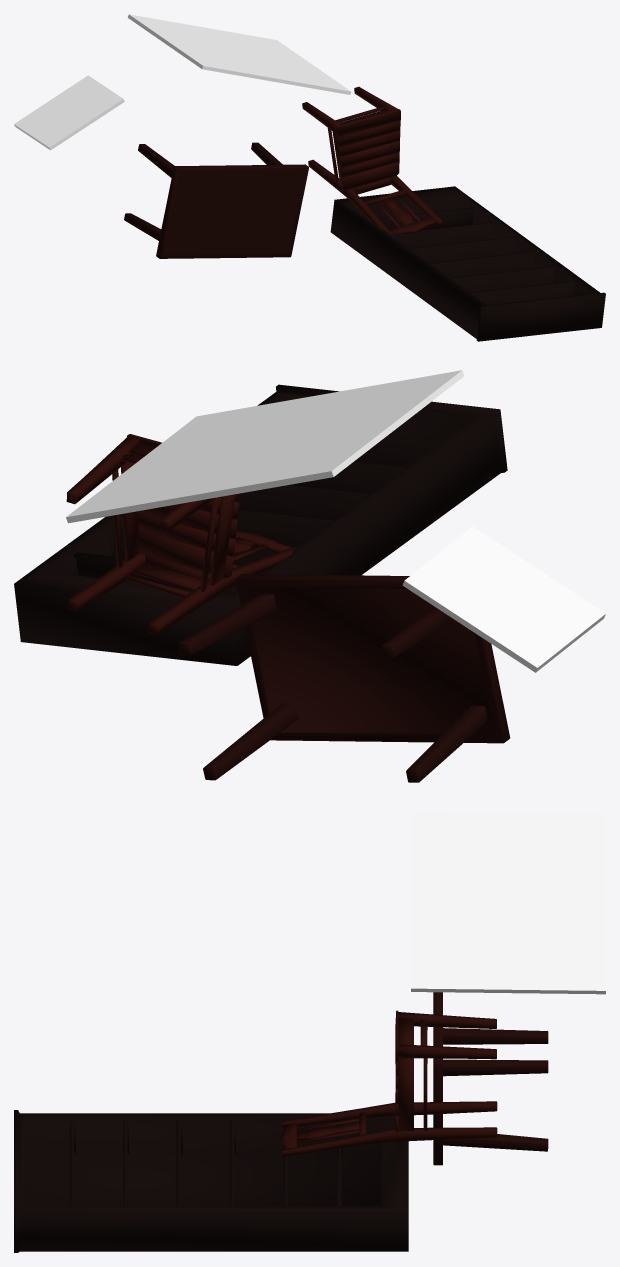
3 renders of one model, top to bottom at view 1: azimuth 30°, elevation 25°; view 2: azimuth 150°, elevation 25°; view 3: azimuth 270°, elevation 25°, orthographic. The views are drawn at different scales.
Parts seen in each view (by area): view 1: diffuse_shelf_02, diffuse_table_01, diffuse_chair_03, glass_window_02, glass_partition_01; view 2: diffuse_shelf_02, diffuse_table_01, glass_window_02, diffuse_chair_03, glass_partition_01; view 3: diffuse_shelf_02, glass_window_02, diffuse_chair_03, diffuse_table_01.
Boxes of the visible parts, left/top/right/bottom form: diffuse_shelf_02: left=330, top=186, right=605, bottom=341; diffuse_table_01: left=124, top=142, right=308, bottom=258; diffuse_chair_03: left=302, top=86, right=442, bottom=235; glass_window_02: left=127, top=14, right=351, bottom=94; glass_partition_01: left=14, top=75, right=124, bottom=150; diffuse_shelf_02: left=14, top=384, right=507, bottom=665; diffuse_table_01: left=178, top=574, right=510, bottom=782; glass_window_02: left=66, top=370, right=464, bottom=523; diffuse_chair_03: left=66, top=434, right=298, bottom=635; glass_partition_01: left=402, top=526, right=605, bottom=672; diffuse_shelf_02: left=14, top=1110, right=408, bottom=1252; glass_window_02: left=411, top=811, right=605, bottom=994; diffuse_chair_03: left=280, top=1010, right=497, bottom=1156; diffuse_table_01: left=433, top=992, right=548, bottom=1165.
Size of the model in its own units: 232 by 132 by 243.
